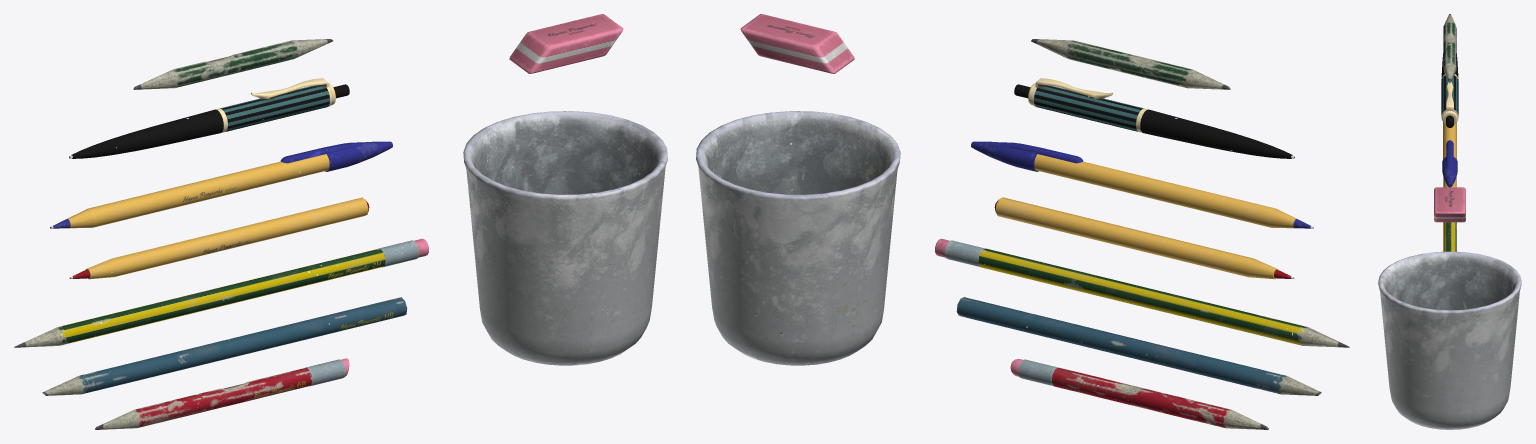
The model's file is stationery_supplies.glb.
The picture shows the model from 3 angles, left to right: view 1: azimuth 30°, elevation 25°; view 2: azimuth 150°, elevation 25°; view 3: azimuth 270°, elevation 25°; orthographic projection. The views are drawn at different scales.
Visible parts, largest first — view 1: stationery_supplies_pen_red; view 2: stationery_supplies_pen_red; view 3: stationery_supplies_pen_red.
Part boxes in pixels (x1,y1,x2,y2): stationery_supplies_pen_red: (14,14,667,429); stationery_supplies_pen_red: (696,14,1349,429); stationery_supplies_pen_red: (1378,14,1521,429).
Size of the model in its own units: 0.3019 by 0.1644 by 0.0837.
1 material, 1 textured.
